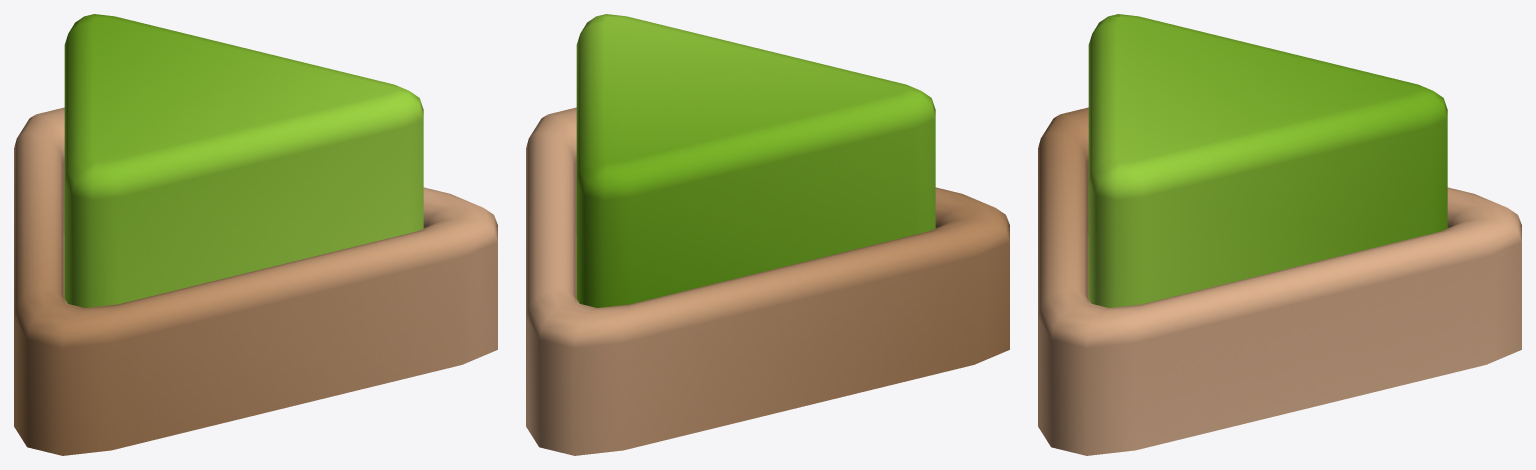
File: ButtonTriangle.fbx
3 views of the same model, side by side, from view 1: azimuth 30°, elevation 25°; view 2: azimuth 150°, elevation 25°; view 3: azimuth 270°, elevation 25° (orthographic).
Visible parts, largest first — view 1: ButtonTriangle, Triangle; view 2: ButtonTriangle, Triangle; view 3: ButtonTriangle, Triangle.
Part boxes in pixels (x1,y1,x2,y2): ButtonTriangle: (14,107,497,455); Triangle: (64,14,423,307); ButtonTriangle: (526,107,1009,455); Triangle: (576,14,935,307); ButtonTriangle: (1038,107,1521,455); Triangle: (1088,14,1447,307).
Bounding box in the file's own units: 137 × 69.94 × 122.
